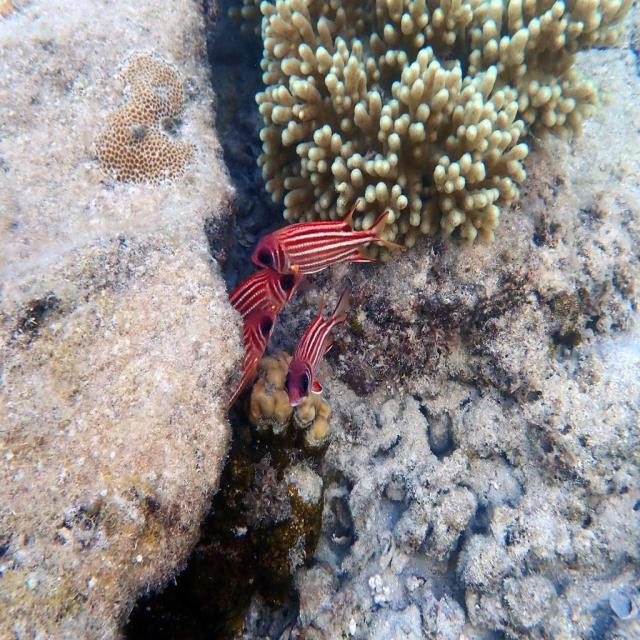Asker Baligi: (243, 187, 392, 290), (266, 297, 368, 415)
